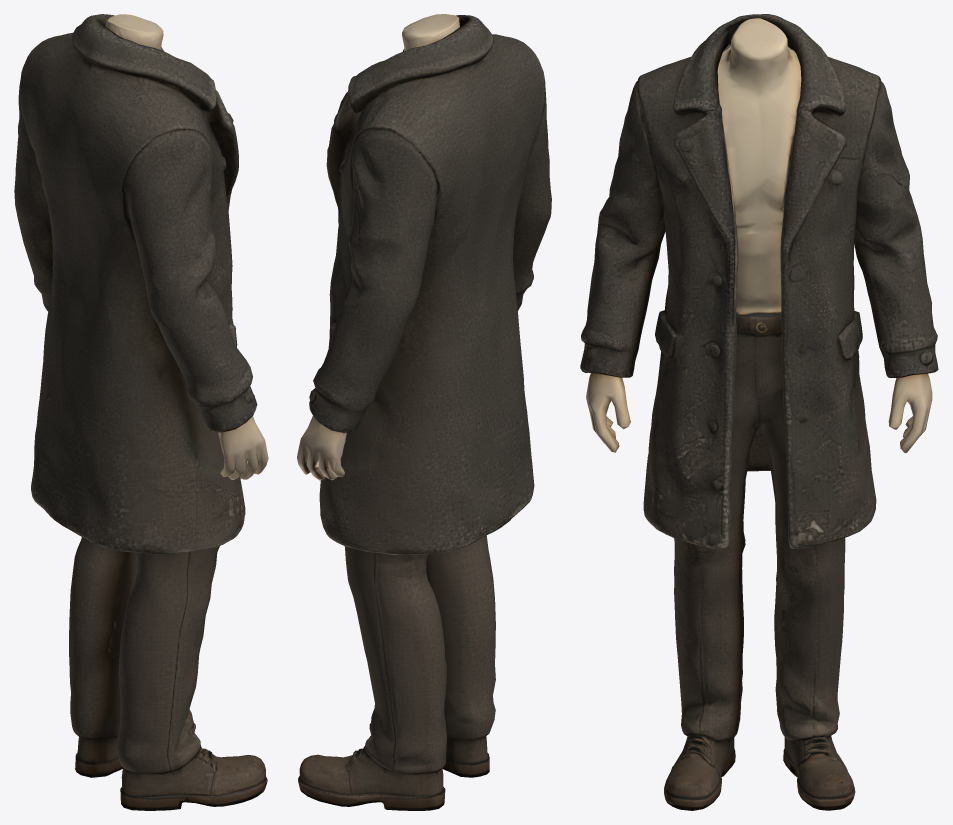
The picture shows the model from 3 angles, left to right: view 1: azimuth 30°, elevation 25°; view 2: azimuth 150°, elevation 25°; view 3: azimuth 270°, elevation 25°; orthographic projection. The views are drawn at different scales.
Parts seen in each view (by area): view 1: tripo_node_99662954-d4d3-45f8-9cc5-8bb40954c200; view 2: tripo_node_99662954-d4d3-45f8-9cc5-8bb40954c200; view 3: tripo_node_99662954-d4d3-45f8-9cc5-8bb40954c200.
Boxes of the visible parts, left/top/right/bottom form: tripo_node_99662954-d4d3-45f8-9cc5-8bb40954c200: left=14, top=14, right=268, bottom=810; tripo_node_99662954-d4d3-45f8-9cc5-8bb40954c200: left=297, top=14, right=551, bottom=810; tripo_node_99662954-d4d3-45f8-9cc5-8bb40954c200: left=580, top=14, right=938, bottom=810.
Size of the model in its own units: 0.233 by 1 by 0.438.
1 material, 1 textured.
